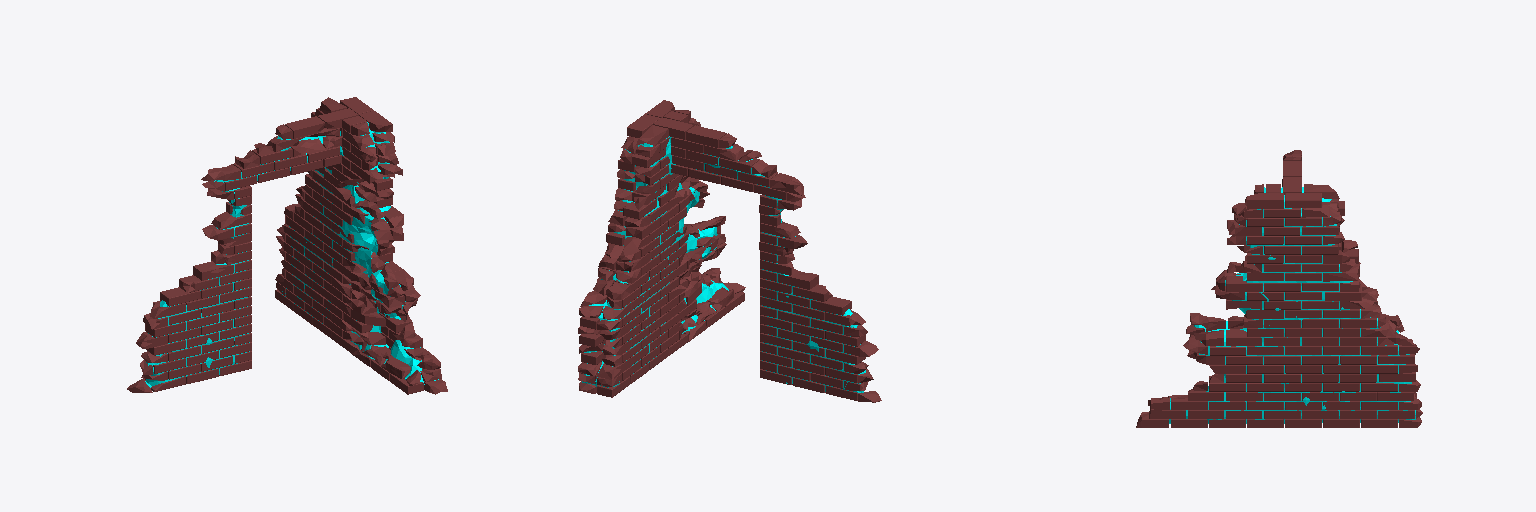
Rendered from Wall1.obj.
3 views of the same model, side by side, from view 1: azimuth 30°, elevation 25°; view 2: azimuth 150°, elevation 25°; view 3: azimuth 270°, elevation 25° (orthographic).
Parts seen in each view (by area): view 1: Wall1_Concrete_Low1:ZBrushPolyMesh3D, Wall1_Bricks_Low2:MeshpolySurface103, Wall1_Bricks_Low2:MeshpolySurface211; view 2: Wall1_Concrete_Low1:ZBrushPolyMesh3D, Wall1_Bricks_Low2:MeshpolySurface103; view 3: Wall1_Concrete_Low1:ZBrushPolyMesh3D, Wall1_Bricks_Low2:MeshpolySurface238, Wall1_Bricks_Low2:MeshpolySurface244.
Part boxes in pixels (x1,y1,x2,y2): Wall1_Concrete_Low1:ZBrushPolyMesh3D: (145, 122, 438, 387); Wall1_Bricks_Low2:MeshpolySurface103: (285, 116, 324, 138); Wall1_Bricks_Low2:MeshpolySurface211: (193, 261, 233, 280); Wall1_Concrete_Low1:ZBrushPolyMesh3D: (582, 136, 865, 392); Wall1_Bricks_Low2:MeshpolySurface103: (686, 125, 726, 147); Wall1_Concrete_Low1:ZBrushPolyMesh3D: (1169, 187, 1415, 423); Wall1_Bricks_Low2:MeshpolySurface238: (1247, 193, 1283, 208); Wall1_Bricks_Low2:MeshpolySurface244: (1285, 193, 1321, 207).
Bounding box in the file's own units: 3.05 × 2.75 × 3.13.